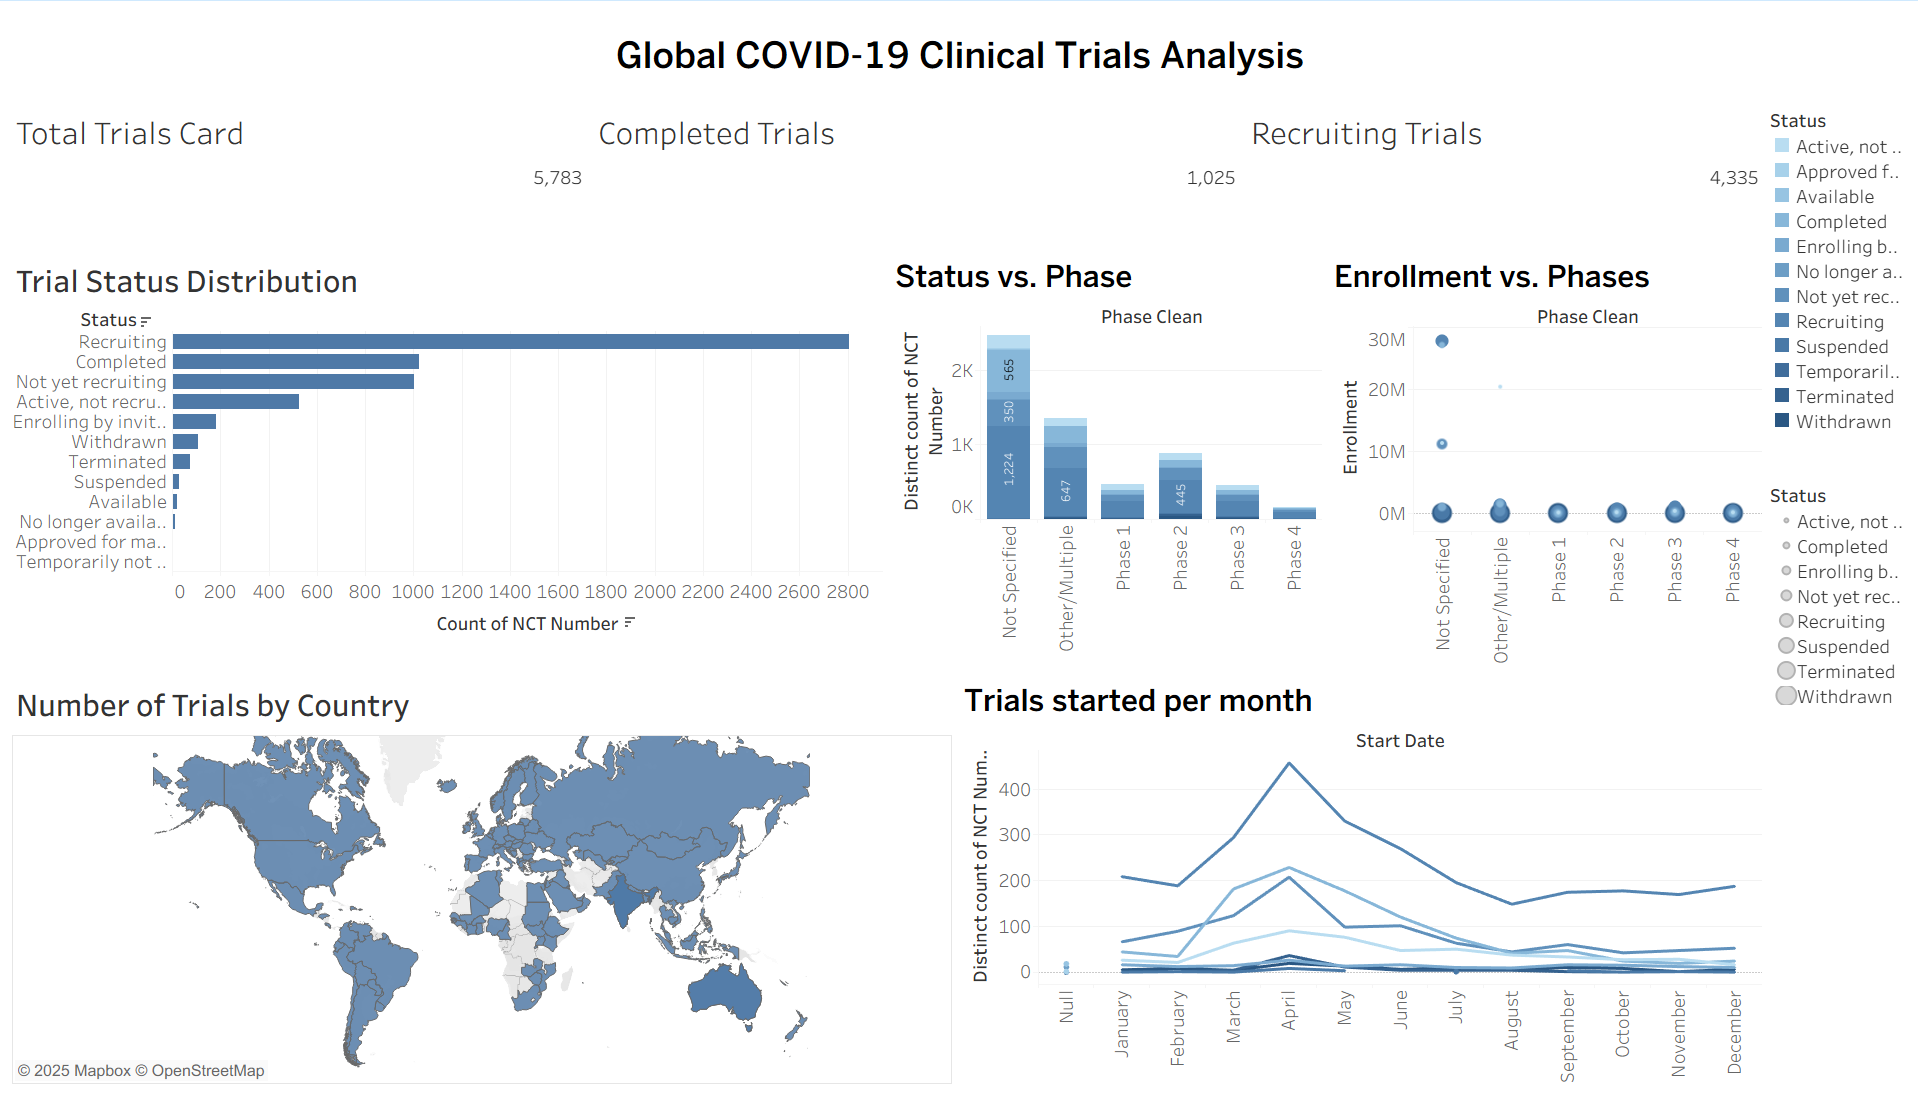

Layout of this report page (visuals, bound fields, positions):
{"tool":"tableau","page":{"name":"Dashboard 1","canvas":[1000,1000],"units":"permille","ordinal":0},"visuals":[{"type":"text","box":[5,9.2,990,85.5]},{"type":"worksheet","title":"Total Trials Card","mark":"Text","box":[5,94.7,297.8,134.9]},{"type":"worksheet","title":"Completed Trials","mark":"Text","box":[302.8,94.7,334,134.9]},{"type":"worksheet","title":"Recruiting Trials ","mark":"Text","box":[636.8,94.7,267.2,134.9]},{"type":"legend","title":"Status vs. Phase","param":"[federated.1u9im6j1ba9nrx18xo4i10j3y0ax].[none:Status:nk]","box":[904,94.7,91,433]},{"type":"worksheet","title":"Trial Status Distribution","mark":"Automatic","rows":["Status"],"cols":["NCT Number"],"box":[5,229.6,449.5,385.8]},{"type":"worksheet","title":"Status vs. Phase","mark":"Automatic","rows":["NCT Number"],"cols":["Calculation_786441139599192066"],"box":[454.5,229.6,224.8,385.8]},{"type":"worksheet","title":"Enrollment vs. Phases","mark":"Circle","rows":["Enrollment"],"cols":["Calculation_786441139599192066"],"box":[679.2,229.6,224.8,385.8]},{"type":"legend","title":"Enrollment vs. Phases","param":"[federated.1u9im6j1ba9nrx18xo4i10j3y0ax].[none:Status:nk]","box":[904,527.7,91,463]},{"type":"worksheet","title":"Number of Trials by Country","mark":"Multipolygon","box":[5,615.5,484.8,375.3]},{"type":"worksheet","title":"Trials started per month","mark":"Line","rows":["NCT Number"],"cols":["Start Date"],"box":[489.7,615.5,414.2,375.3]}]}

Visuals, with their boxes on the dashboard's canvas, which has no fixed pixel size, in thousandths of its width and height (x1, y1, x2, y2). These are canvas units, not pixel positions in the 1918x1093 screenshot, which may show the page scaled, cropped or inside an application window:
text: 5/9/995/95
"Total Trials Card" worksheet (Text marks): 5/95/303/230
"Completed Trials" worksheet (Text marks): 303/95/637/230
"Recruiting Trials " worksheet (Text marks): 637/95/904/230
"Status vs. Phase" legend: 904/95/995/528
"Trial Status Distribution" worksheet: 5/230/454/615
"Status vs. Phase" worksheet: 454/230/679/615
"Enrollment vs. Phases" worksheet (Circle marks): 679/230/904/615
"Enrollment vs. Phases" legend: 904/528/995/991
"Number of Trials by Country" worksheet (Multipolygon marks): 5/616/490/991
"Trials started per month" worksheet (Line marks): 490/616/904/991
